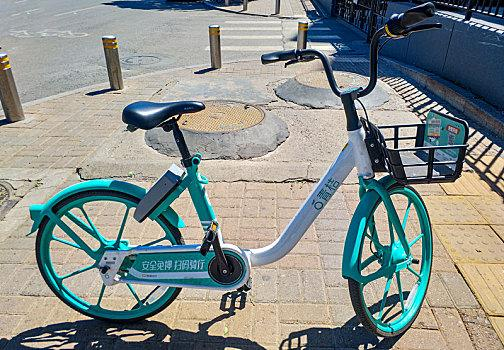单车: (27, 3, 485, 346)
